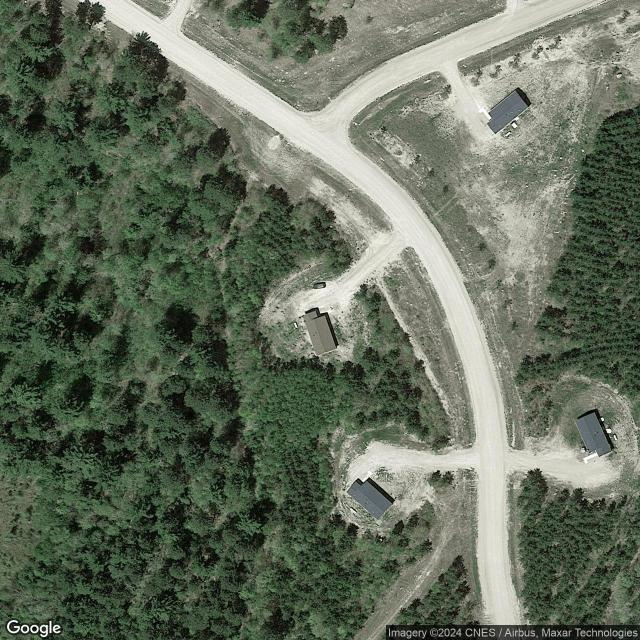Propane: (612, 433, 620, 442), (504, 130, 513, 138), (349, 506, 358, 514), (293, 320, 299, 329)
